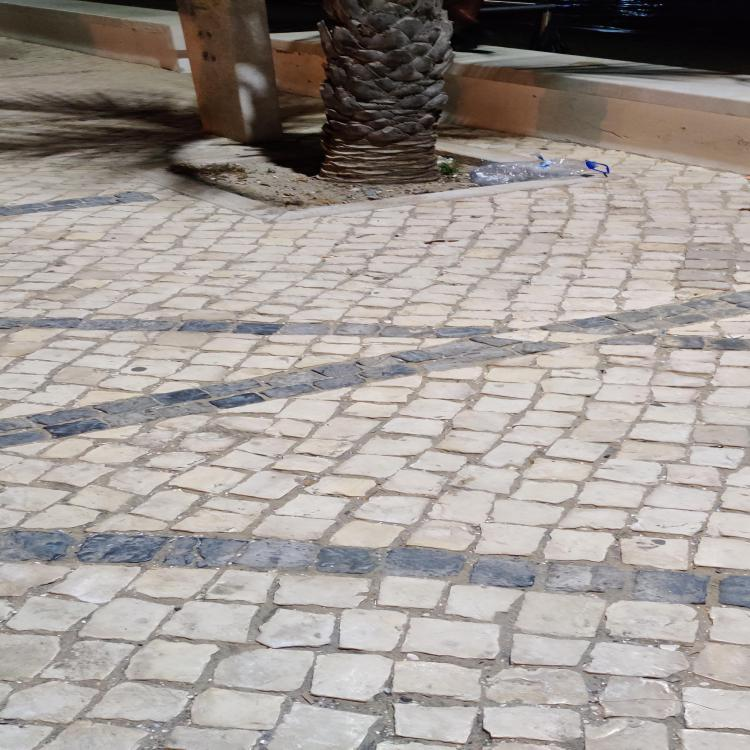Cigarette: (319, 255, 332, 257), (282, 196, 292, 198)
Clear plastic bottle: (470, 156, 610, 186)
